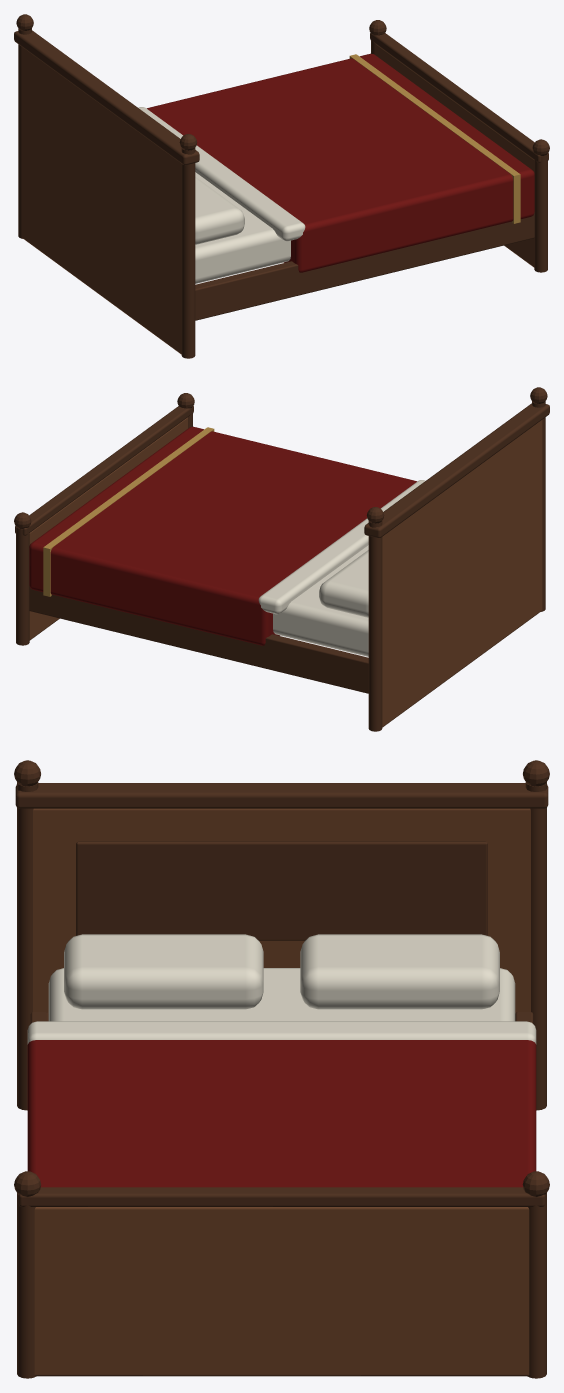
File: hotel_bed.glb
3 renders of one model, top to bottom at view 1: azimuth 30°, elevation 25°; view 2: azimuth 150°, elevation 25°; view 3: azimuth 270°, elevation 25°, orthographic. The views are drawn at different scales.
Visible parts, largest first — view 1: decke, kopfteil, zarge-1, matratze, kopf_leiste, umschlag, fuss_leiste, pfosten-1.07-1, fussteil, kissen_r, borte, pfosten1.025-1 (+1 smaller); view 2: decke, kopfteil, zarge1, matratze, kopf_leiste, umschlag, fuss_leiste, pfosten-1.071, fussteil, kissen_l, borte, pfosten1.0251 (+1 smaller); view 3: fussteil, decke, kopf_kassette, kopfteil, kissen_l, kissen_r, kopf_leiste, fuss_leiste, umschlag, matratze, pfosten-1.07-1, pfosten-1.071 (+2 smaller).
Boxes of the visible parts, x1=… form: decke: x1=147, y1=53, x2=534, y2=272; kopfteil: x1=21, y1=47, x2=181, y2=354; zarge-1: x1=195, y1=212, x2=534, y2=320; matratze: x1=195, y1=172, x2=290, y2=283; kopf_leiste: x1=14, y1=30, x2=199, y2=165; umschlag: x1=138, y1=107, x2=305, y2=241; fuss_leiste: x1=370, y1=33, x2=548, y2=162; pfosten-1.07-1: x1=181, y1=148, x2=195, y2=358; fussteil: x1=376, y1=44, x2=534, y2=267; kissen_r: x1=195, y1=177, x2=244, y2=244; borte: x1=349, y1=54, x2=520, y2=223; pfosten1.025-1: x1=534, y1=155, x2=547, y2=272; decke: x1=29, y1=426, x2=416, y2=645; kopfteil: x1=382, y1=420, x2=542, y2=727; zarge1: x1=29, y1=585, x2=368, y2=693; matratze: x1=273, y1=545, x2=368, y2=656; kopf_leiste: x1=364, y1=403, x2=549, y2=538; umschlag: x1=258, y1=480, x2=425, y2=614; fuss_leiste: x1=15, y1=406, x2=193, y2=535; pfosten-1.071: x1=368, y1=521, x2=382, y2=731; fussteil: x1=29, y1=417, x2=187, y2=640; kissen_l: x1=319, y1=550, x2=368, y2=617; borte: x1=43, y1=427, x2=214, y2=596; pfosten1.0251: x1=16, y1=528, x2=29, y2=645; fussteil: x1=34, y1=1207, x2=529, y2=1376; decke: x1=27, y1=1040, x2=536, y2=1187; kopf_kassette: x1=76, y1=841, x2=487, y2=940; kopfteil: x1=33, y1=808, x2=530, y2=1013; kissen_l: x1=300, y1=934, x2=499, y2=1009; kissen_r: x1=64, y1=934, x2=263, y2=1009; kopf_leiste: x1=15, y1=783, x2=548, y2=808; fuss_leiste: x1=18, y1=1187, x2=545, y2=1206; umschlag: x1=27, y1=1021, x2=536, y2=1044; matratze: x1=48, y1=968, x2=515, y2=1021; pfosten-1.07-1: x1=17, y1=782, x2=38, y2=1110; pfosten-1.071: x1=525, y1=782, x2=546, y2=1110.
Bounding box in the file's own units: 2.19 × 1.26 × 1.77.
